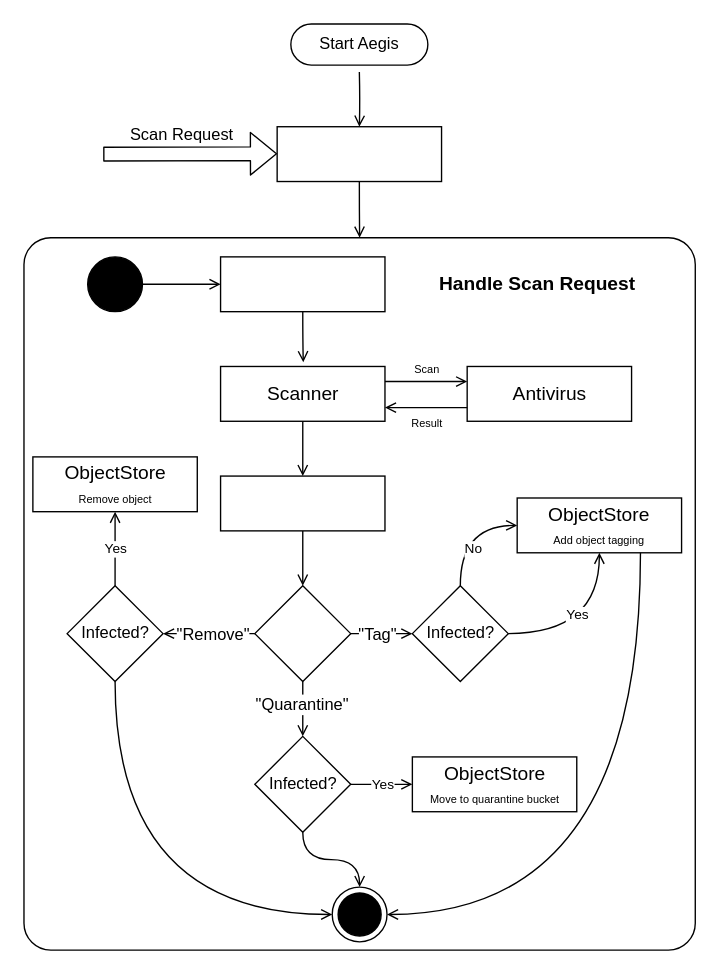
Some shapes in this 719 by 974 pixel diagram are drawn without their labels. The shapes that lost their labels are listed below. From the top down, each one's centre as x and y in pixels, then its label:
point 359,153: Event Manager
point 302,284: Dispatcher
point 302,503: Cleaner
point 302,633: Policy?
